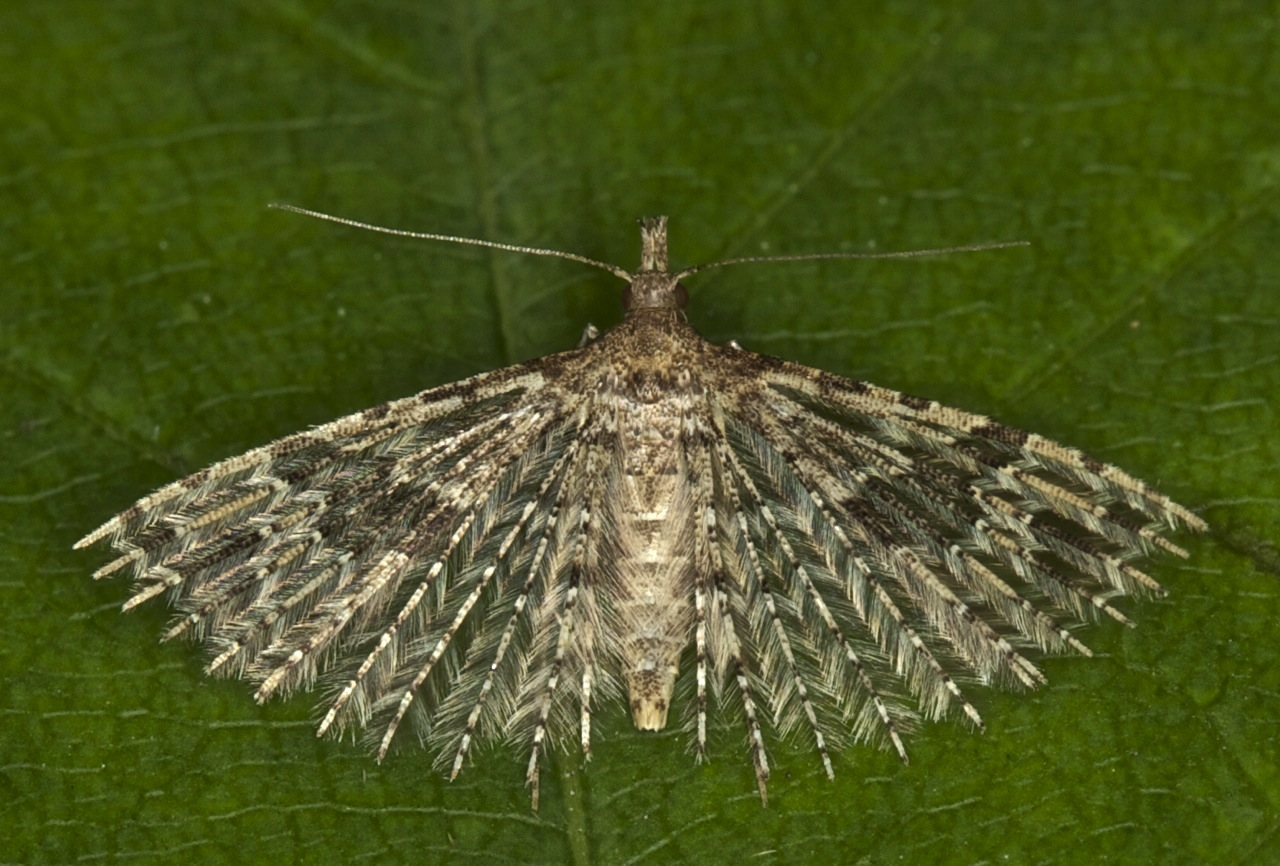Alucitidae: (60, 191, 1238, 826)
moth: (58, 189, 1236, 824)
